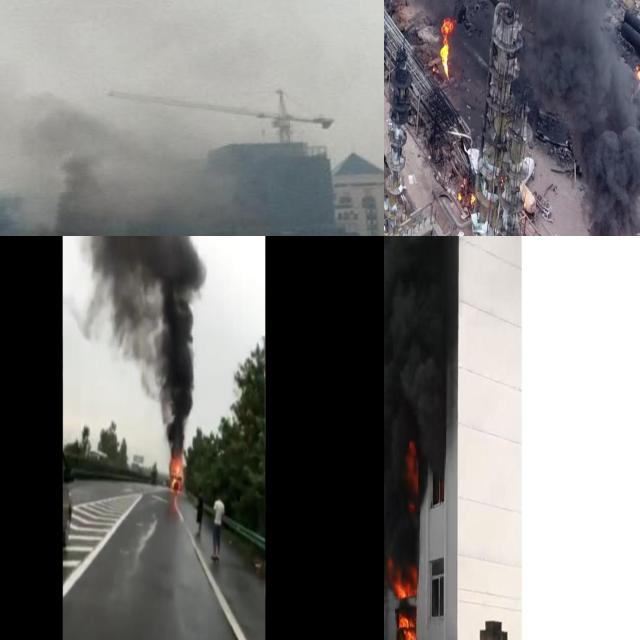fire: (384, 563, 419, 640), (404, 441, 421, 511), (437, 16, 453, 78), (168, 454, 184, 497), (457, 178, 476, 208), (635, 64, 640, 82)
smoke: (401, 0, 640, 236), (0, 46, 252, 236), (63, 236, 208, 450), (384, 236, 456, 571)
